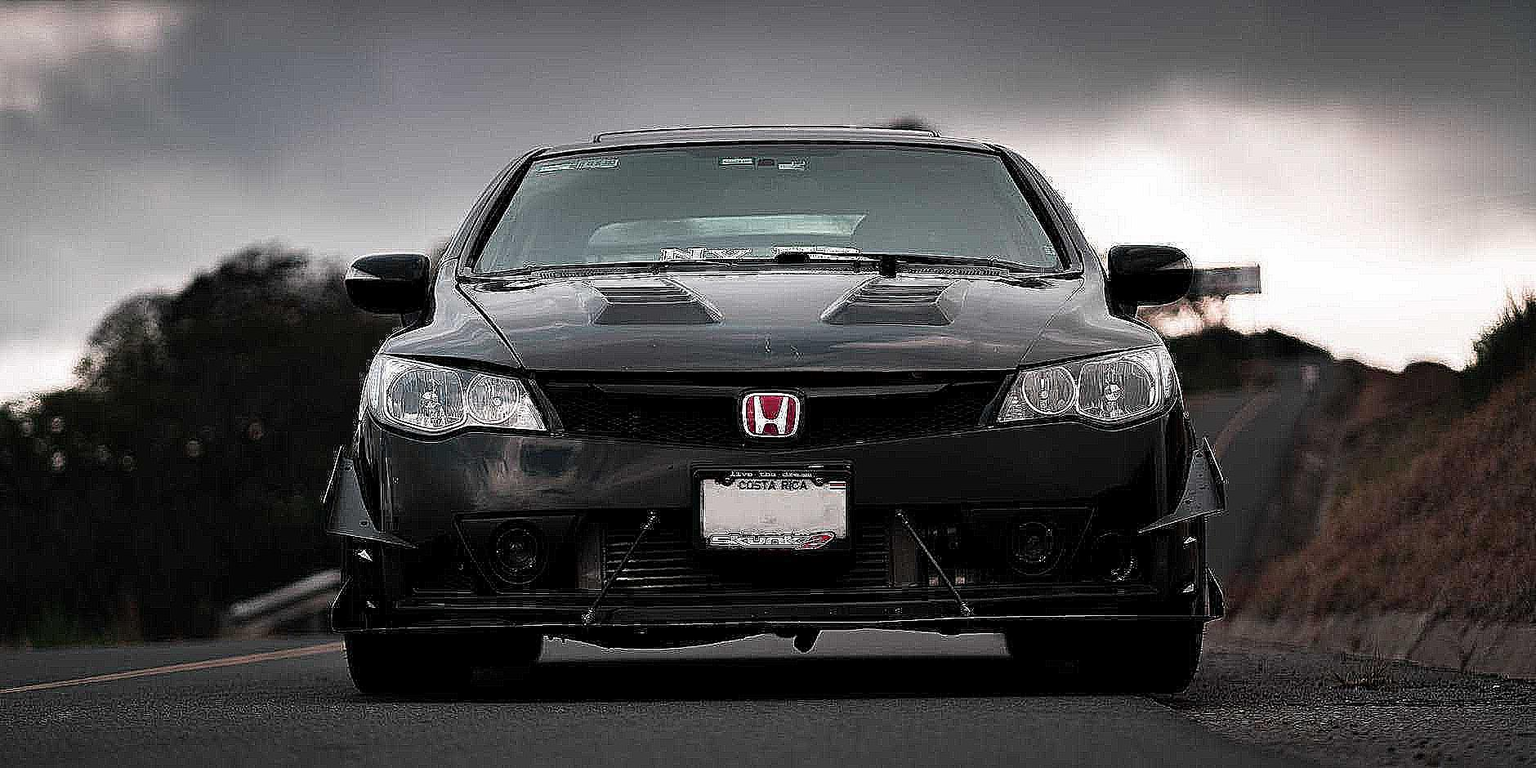Car hood: (450, 252, 1088, 378)
Front bumper: (313, 413, 1237, 646)
Headlight - -L-: (987, 339, 1184, 439)
Headlight - -R-: (356, 347, 551, 445)
Side mirror - -L-: (1098, 238, 1201, 326)
Side mirror - -R-: (334, 244, 440, 331)
